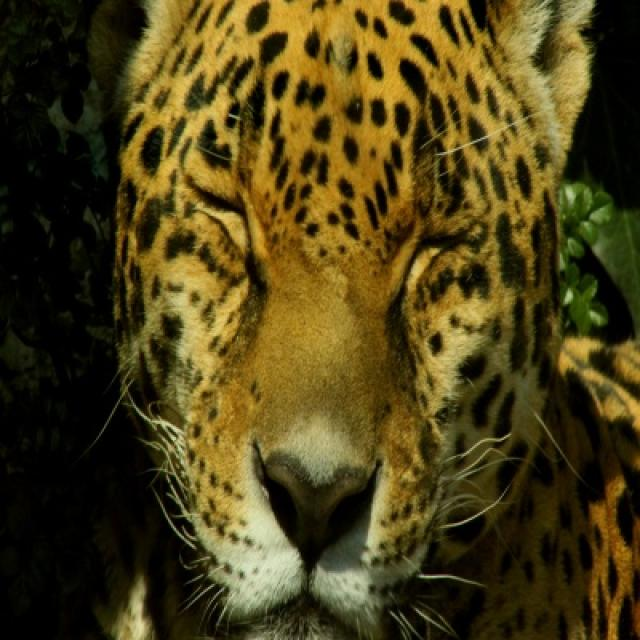Jaguar: (88, 0, 638, 638)
